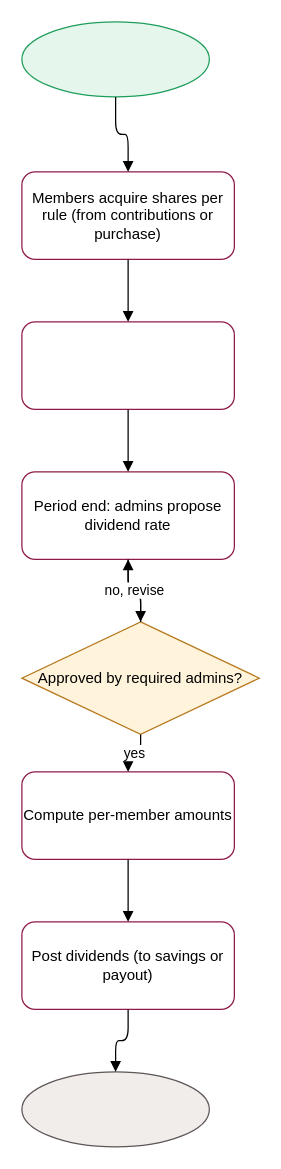
This 281x1169 diagram has some shape labels left out. The shapes that lost their labels are listed below. From the top down, each one's centre as x and y in pixels, then its label:
At [115,59]: "Admin sets share unit, price and limits".
At [127,365]: "Certificate generated".
At [115,1109]: "Notify members; reports updated".
